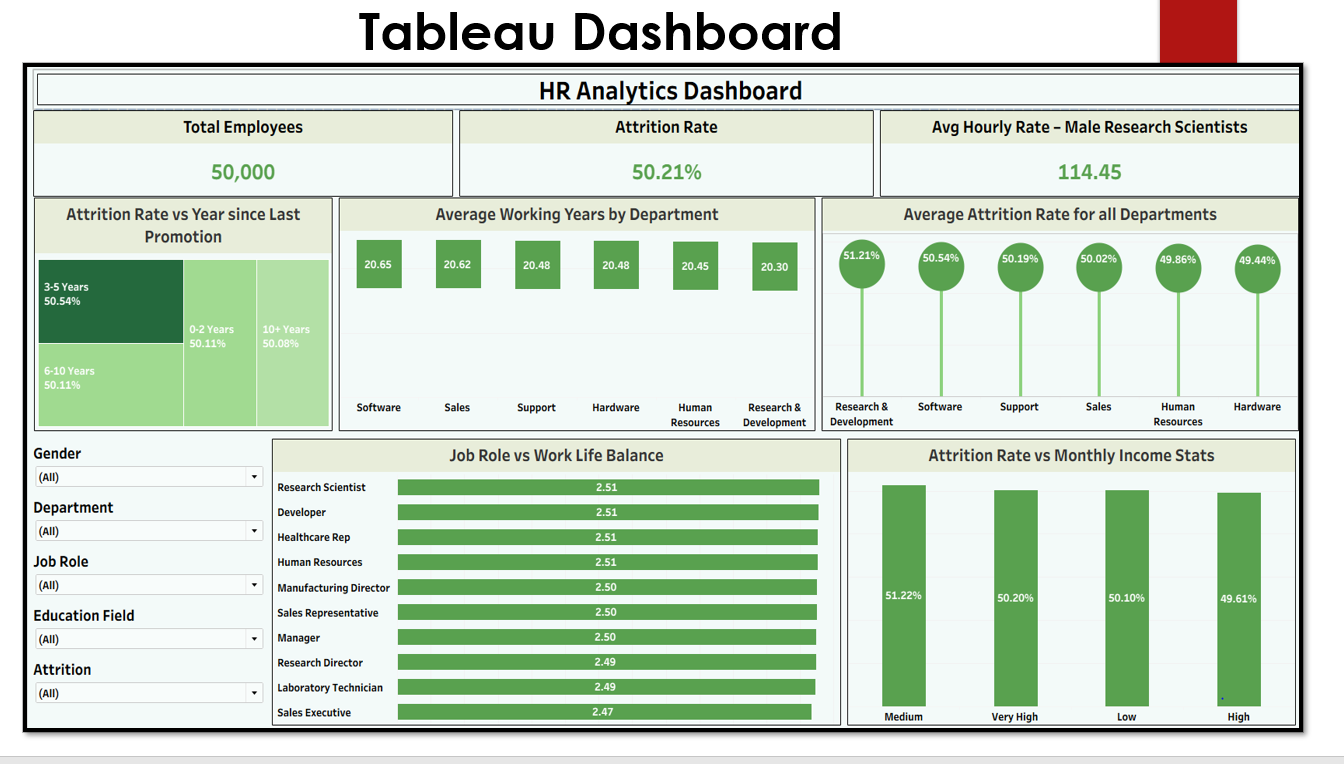

This screenshot's page, from the dashboard's own definition file:
{"tool":"tableau","page":{"name":"Dashboard","canvas":[1654,1169],"ordinal":0},"visuals":[{"type":"title","box":[8,8,1638,46]},{"type":"worksheet","title":"8.Total Employees","mark":"Text","box":[3,52,548,112]},{"type":"worksheet","title":"7. Attrition Rate","mark":"Text","box":[551,52,541,112]},{"type":"worksheet","title":"2. HourlyRate-Male Research scientist","mark":"Text","box":[1092,52,548,112]},{"type":"worksheet","title":"6.Attrition vs Year since last promotion","mark":"Automatic","box":[4,157,392,289]},{"type":"worksheet","title":"4.Avg Working years by Dept","mark":"Square","rows":["TotalWorkingYears"],"cols":["Department"],"box":[396,157,621.4,289]},{"type":"worksheet","title":"1.Attrition Rate by Department","mark":"Circle","rows":["Calculation_702280116256665601","Calculation_702280116256665601"],"cols":["Department"],"box":[1017.4,157,622.4,289]},{"type":"worksheet","title":"5.Job role vs Worklife Balance","mark":"Automatic","rows":["JobRole"],"cols":["WorkLifeBalance"],"box":[310,447,740,353]},{"type":"worksheet","title":"3. Attrition Rate Vs monthly Income ","mark":"Automatic","rows":["Calculation_702280116256665601"],"cols":["Calculation_702280116256841730"],"box":[1050,447,585,353]},{"type":"filter","title":"1.Attrition Rate by Department","param":"[federated.09jf5ii03d09tw18uaf6v0ac3hdk].[none:Gender:nk]","box":[3,451,307,65]},{"type":"filter","title":"1.Attrition Rate by Department","param":"[federated.09jf5ii03d09tw18uaf6v0ac3hdk].[none:Department:nk]","box":[3,516,307,65]},{"type":"filter","title":"1.Attrition Rate by Department","param":"[federated.09jf5ii03d09tw18uaf6v0ac3hdk].[none:JobRole:nk]","box":[3,581,307,65]},{"type":"filter","title":"1.Attrition Rate by Department","param":"[federated.09jf5ii03d09tw18uaf6v0ac3hdk].[none:EducationField:nk]","box":[3,646,307,65]},{"type":"filter","title":"1.Attrition Rate by Department","param":"[federated.09jf5ii03d09tw18uaf6v0ac3hdk].[none:Attrition:nk]","box":[3,711,307,65]}]}

Visuals, with their boxes on the page's 1654x1169 design canvas (x1, y1, x2, y2). These are canvas units, not pixel positions in the 1344x764 screenshot, which may show the page scaled, cropped or inside an application window:
title: [8, 8, 1646, 54]
"8.Total Employees" worksheet (Text marks): [3, 52, 551, 164]
"7. Attrition Rate" worksheet (Text marks): [551, 52, 1092, 164]
"2. HourlyRate-Male Research scientist" worksheet (Text marks): [1092, 52, 1640, 164]
"6.Attrition vs Year since last promotion" worksheet: [4, 157, 396, 446]
"4.Avg Working years by Dept" worksheet (Square marks): [396, 157, 1017, 446]
"1.Attrition Rate by Department" worksheet (Circle marks): [1017, 157, 1640, 446]
"5.Job role vs Worklife Balance" worksheet: [310, 447, 1050, 800]
"3. Attrition Rate Vs monthly Income " worksheet: [1050, 447, 1635, 800]
"1.Attrition Rate by Department" filter: [3, 451, 310, 516]
"1.Attrition Rate by Department" filter: [3, 516, 310, 581]
"1.Attrition Rate by Department" filter: [3, 581, 310, 646]
"1.Attrition Rate by Department" filter: [3, 646, 310, 711]
"1.Attrition Rate by Department" filter: [3, 711, 310, 776]
